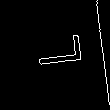L_W: (25, 42, 81, 79)
